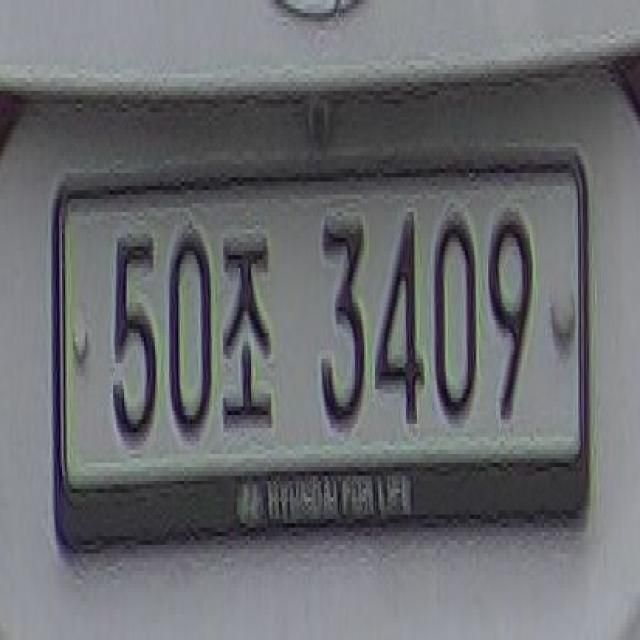0: (431, 192, 482, 442), (163, 221, 213, 453)
3: (316, 201, 372, 448)
4: (374, 195, 429, 446)
5: (100, 226, 159, 467)
9: (486, 190, 546, 438)
jo: (218, 226, 282, 457)
license_plate: (34, 138, 596, 552)
